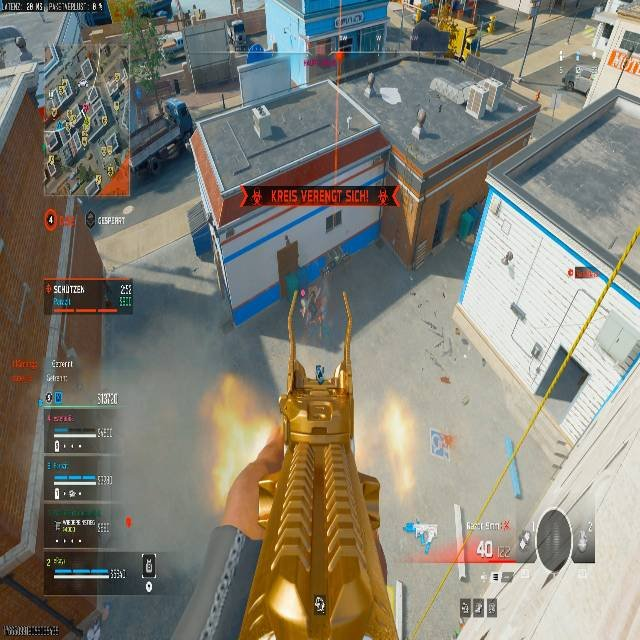player: (226, 18, 252, 73), (315, 363, 323, 383)
